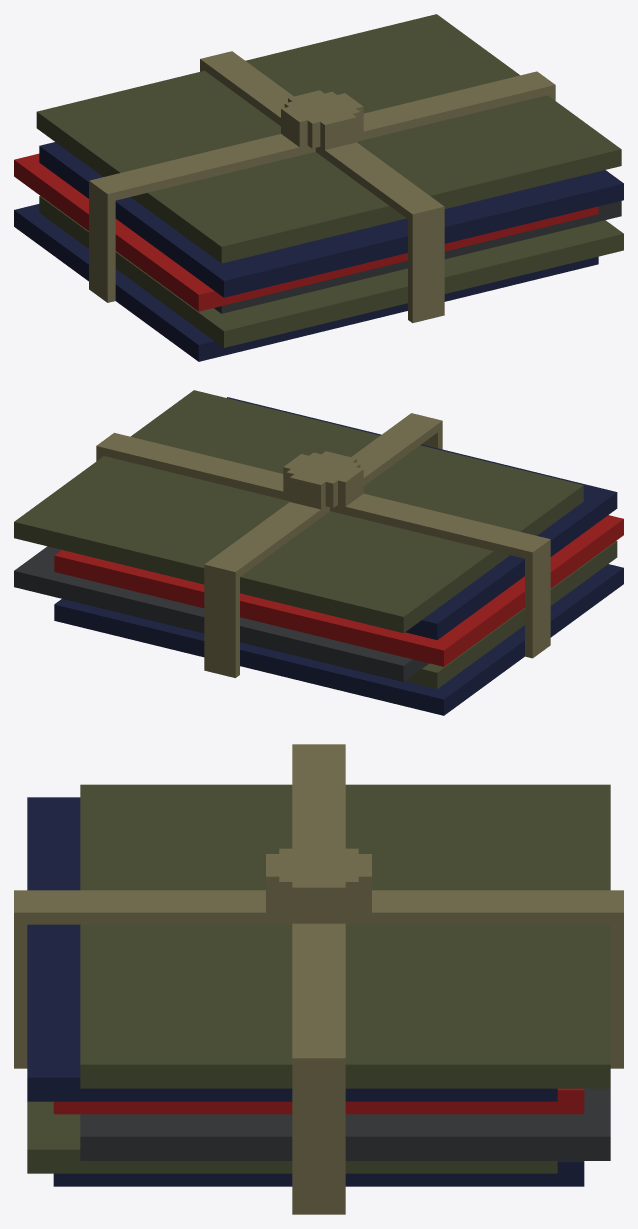
File: bundle_nylon.glb
3 renders of one model, top to bottom at view 1: azimuth 30°, elevation 25°; view 2: azimuth 150°, elevation 25°; view 3: azimuth 270°, elevation 25°, orthographic. The views are drawn at different scales.
Parts seen in each view (by area): view 1: bundle_nylon:compound; view 2: bundle_nylon:compound; view 3: bundle_nylon:compound.
Part boxes in pixels (bbox=[...]): bundle_nylon:compound: bbox=[14, 14, 623, 361]; bundle_nylon:compound: bbox=[14, 390, 623, 715]; bundle_nylon:compound: bbox=[14, 744, 623, 1214].
Size of the model in its own units: 0.112 by 0.032 by 0.092.
